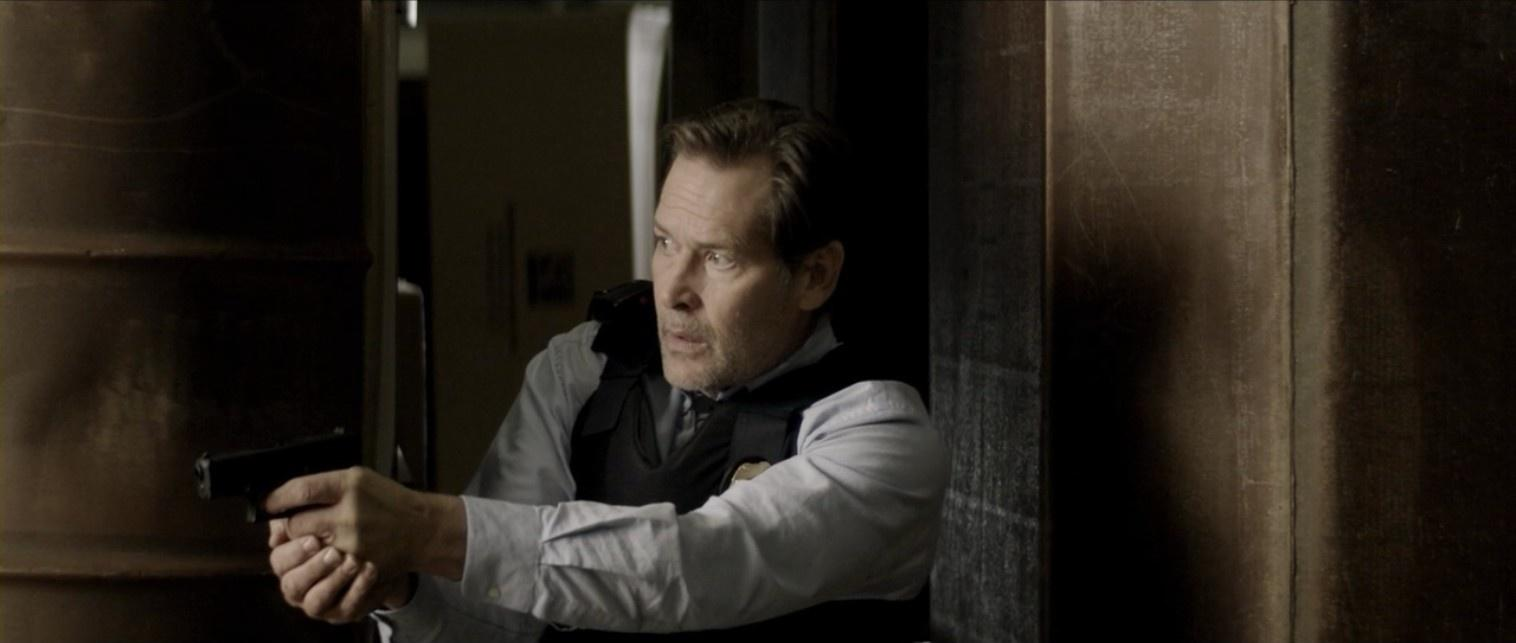gun: (182, 415, 392, 643)
